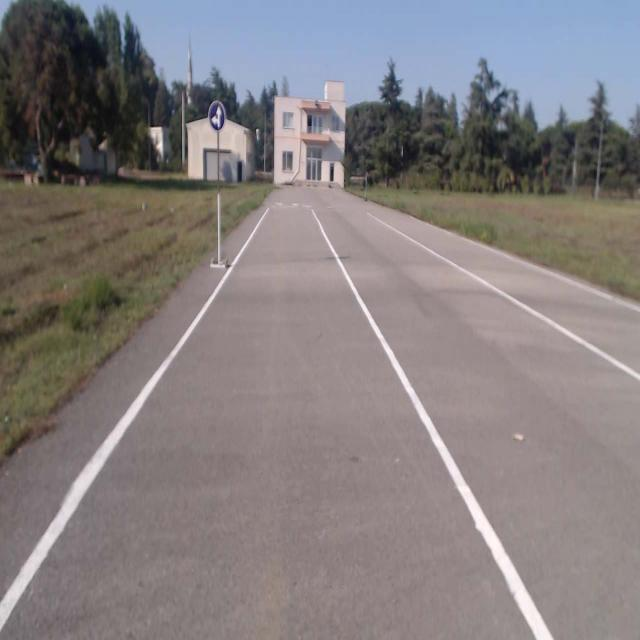ilerisol: (208, 101, 224, 128)
